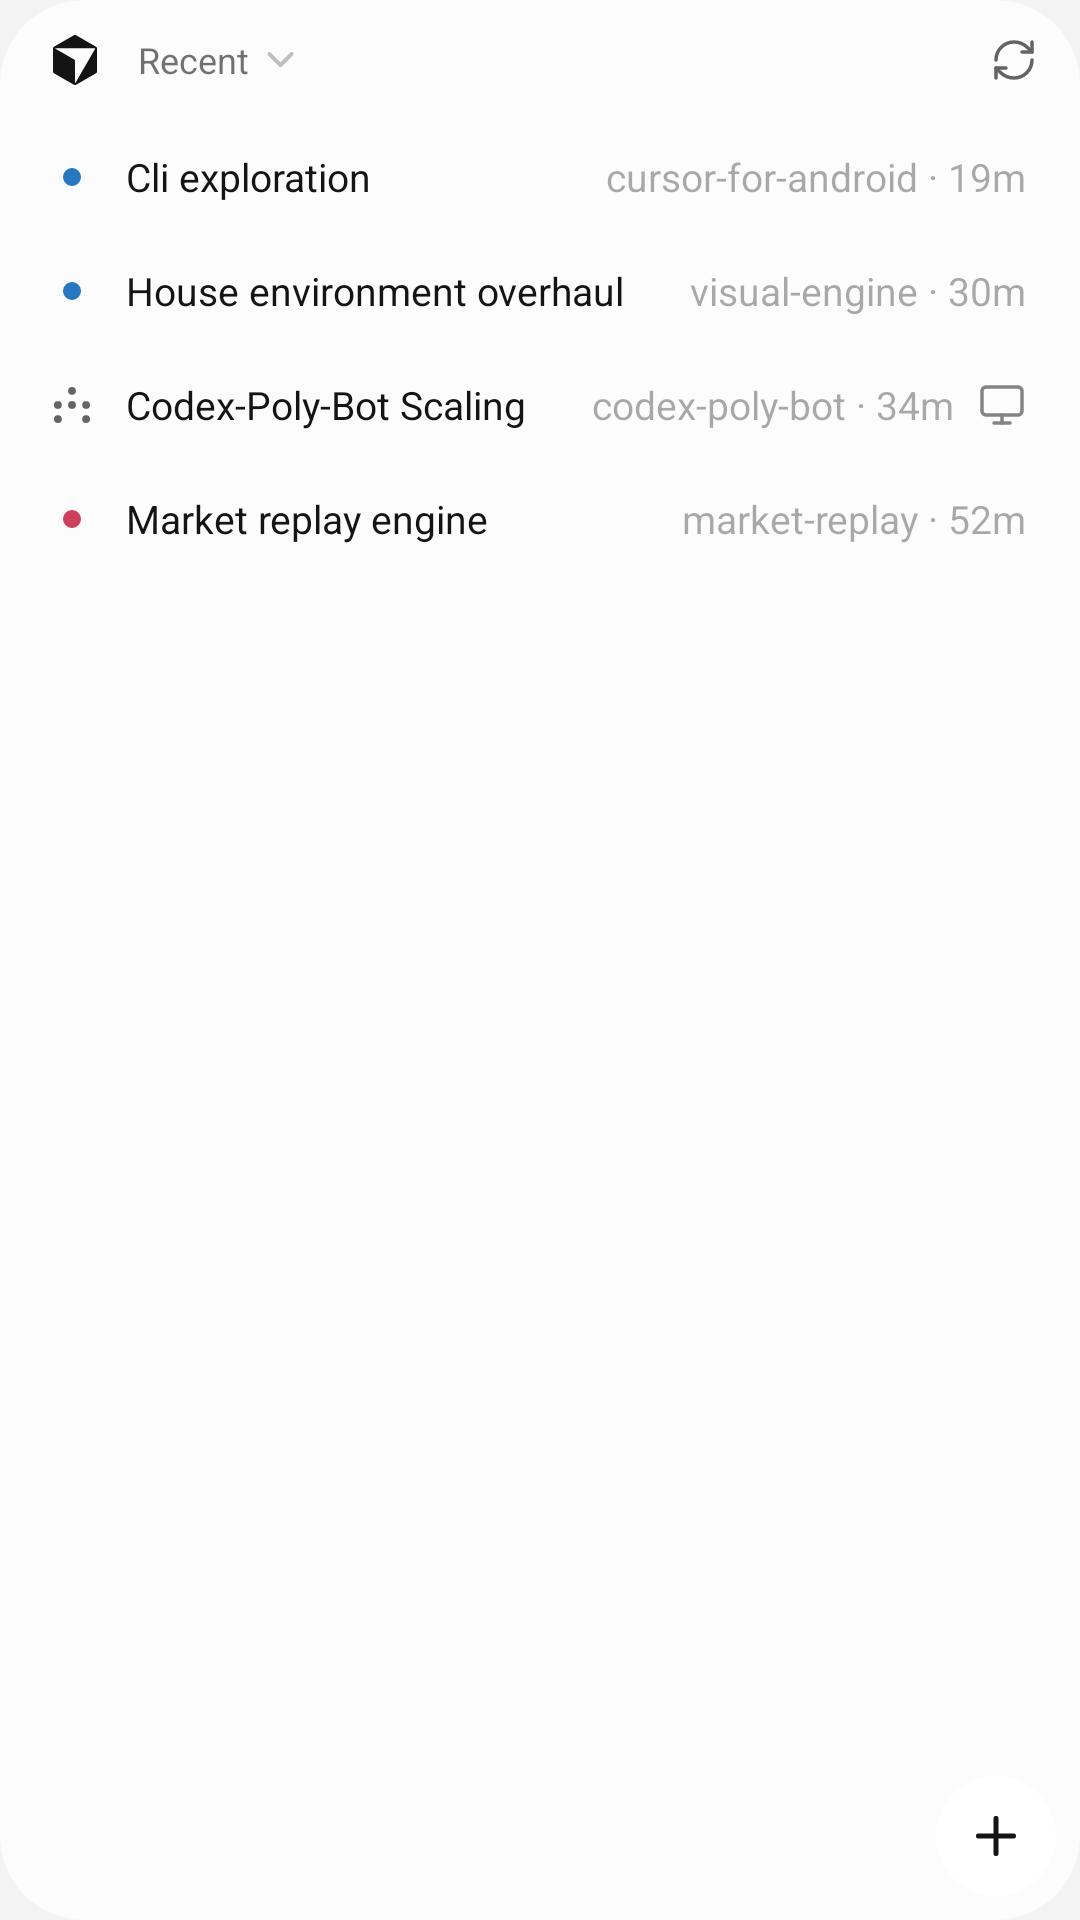

Screen size 1080px×1920px. Icon name, then its center in pixels as (x=x, y=y):
Refresh: (x=1014, y=60)
widget chevron down: (x=280, y=59)
widget cube: (x=75, y=60)
widget desktop: (x=1002, y=405)
widget plus: (x=996, y=1836)
